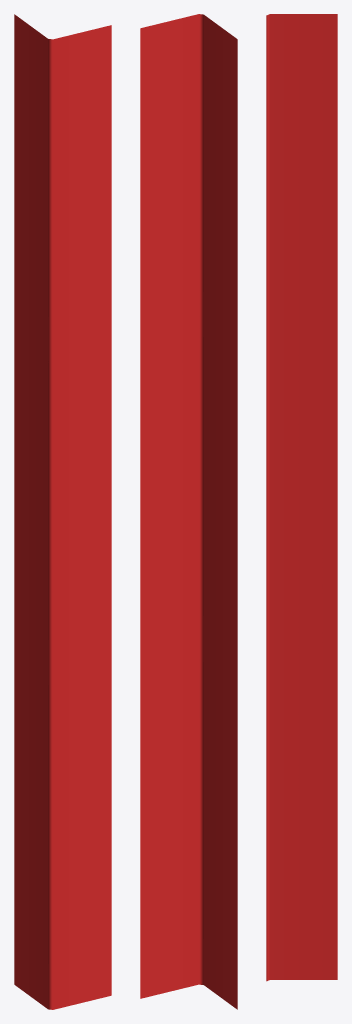
File: DBK_Brick_Corner.fbx
3 views of the same model, side by side, from view 1: azimuth 30°, elevation 25°; view 2: azimuth 210°, elevation 25°; view 3: azimuth 270°, elevation 25° (orthographic).
Parts seen in each view (by area): view 1: DBK_Brick_Corner; view 2: DBK_Brick_Corner; view 3: DBK_Brick_Corner.
Part boxes in pixels (x1=…): DBK_Brick_Corner: x1=14, y1=14, x2=111, y2=1009; DBK_Brick_Corner: x1=140, y1=14, x2=237, y2=1009; DBK_Brick_Corner: x1=266, y1=14, x2=337, y2=981.
Size of the model in its own units: 20 by 300 by 20.
